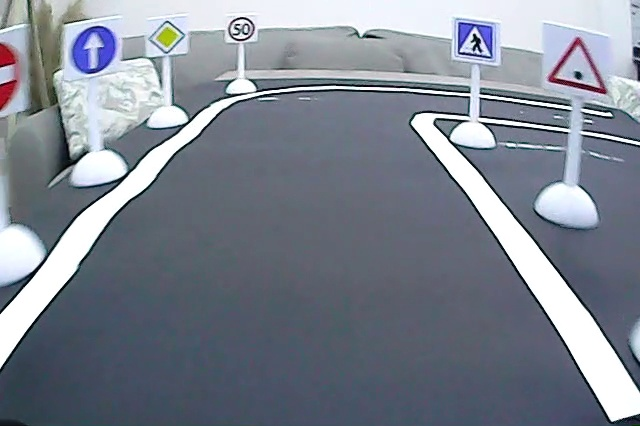green light: (549, 27, 607, 96)
pedestrian crossing: (455, 18, 495, 59)
speed limit 50: (227, 17, 254, 42)
